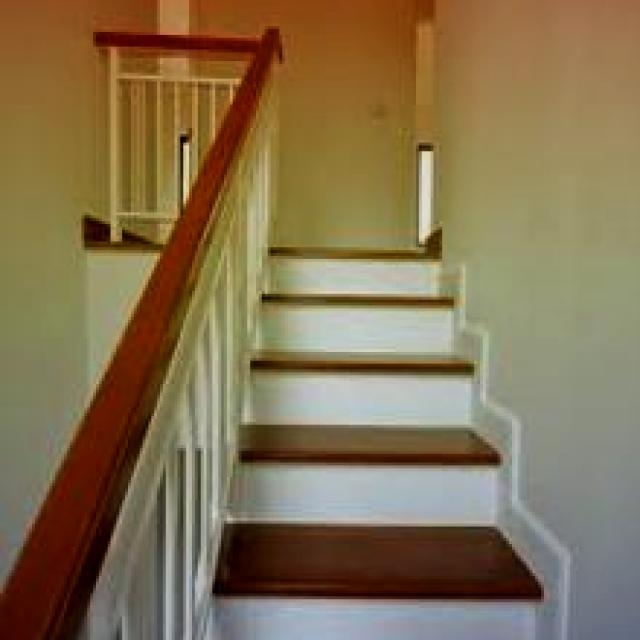upstair: (216, 359, 551, 623)
